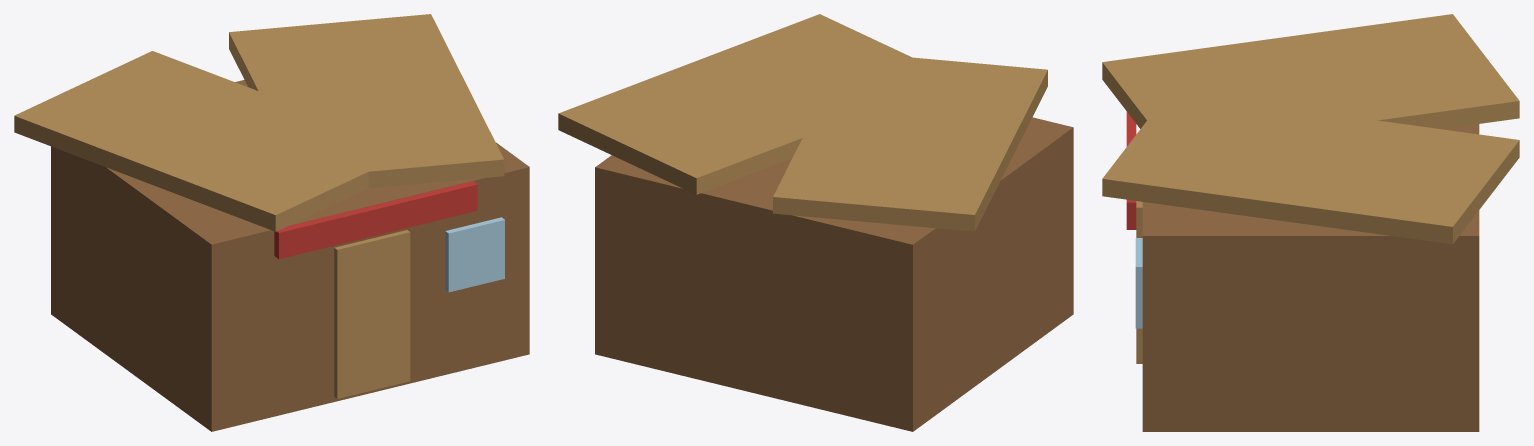
The model's file is Mush_MapProp_DestinationCabin_V2.fbx.
The picture shows the model from 3 angles, left to right: view 1: azimuth 30°, elevation 25°; view 2: azimuth 150°, elevation 25°; view 3: azimuth 270°, elevation 25°; orthographic projection. The views are drawn at different scales.
Parts seen in each view (by area): view 1: Mush_MapProp_DestinationCabin_V2; view 2: Mush_MapProp_DestinationCabin_V2; view 3: Mush_MapProp_DestinationCabin_V2.
Part boxes in pixels (x1,y1,x2,y2): Mush_MapProp_DestinationCabin_V2: (14, 14, 529, 431); Mush_MapProp_DestinationCabin_V2: (558, 14, 1073, 431); Mush_MapProp_DestinationCabin_V2: (1102, 14, 1519, 431).
Size of the model in its own units: 629 by 317 by 521.
